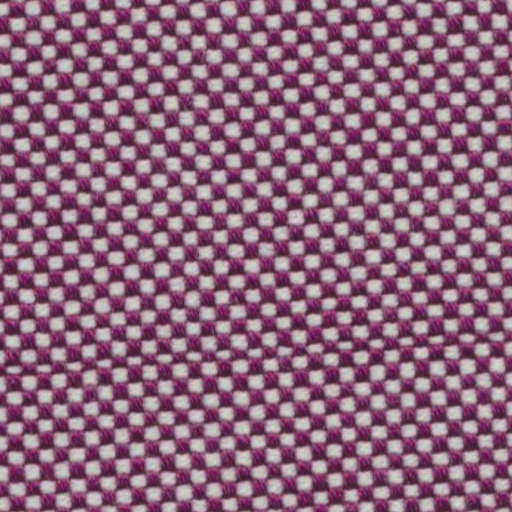TuoSha: (16, 326, 500, 380)
